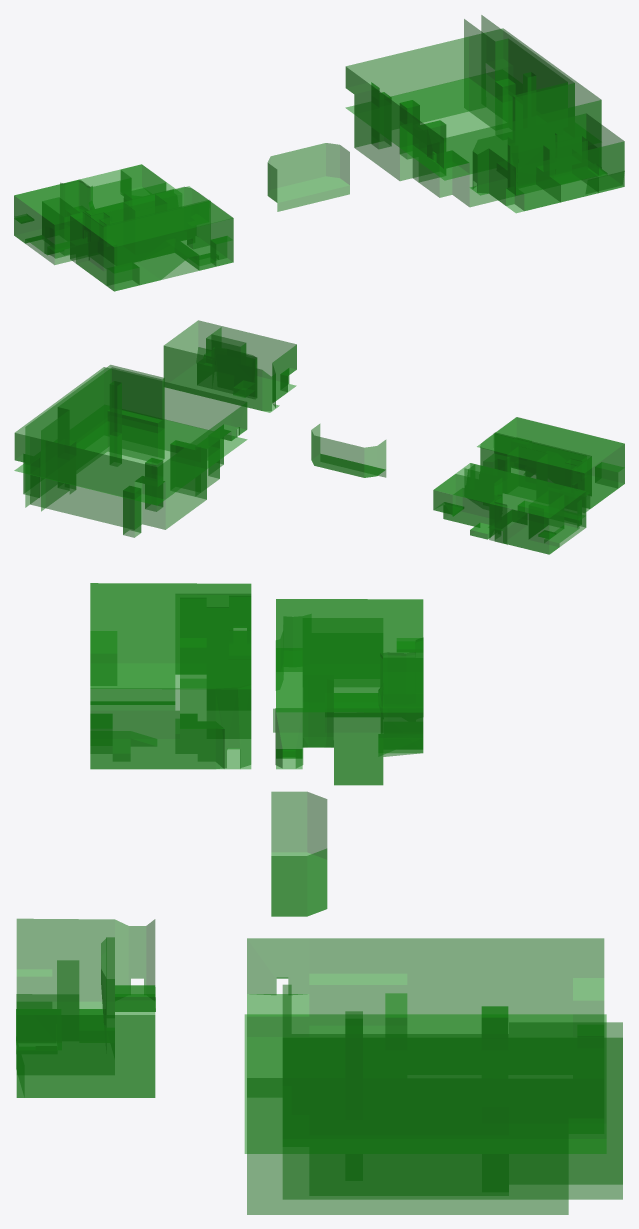
The model's file is camera_col.obj.
The picture shows the model from 3 angles, top to bottom: view 1: azimuth 30°, elevation 25°; view 2: azimuth 150°, elevation 25°; view 3: azimuth 270°, elevation 25°; orthographic projection. The views are drawn at different scales.
Bounding box in the file's own units: 253 × 44.37 × 136.
